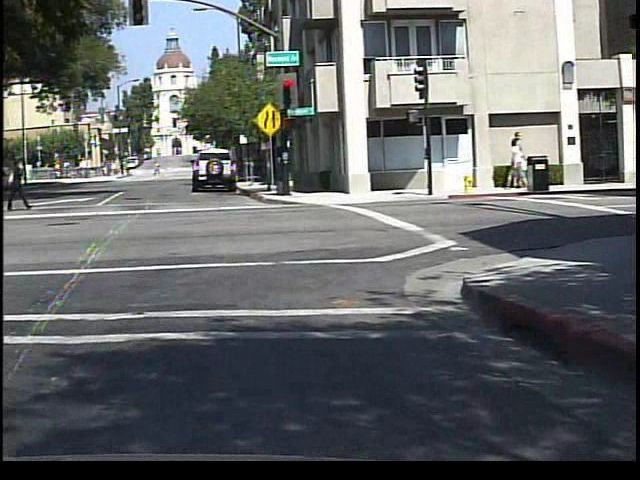person: (3, 169, 30, 229), (4, 155, 31, 213), (152, 160, 162, 179)
